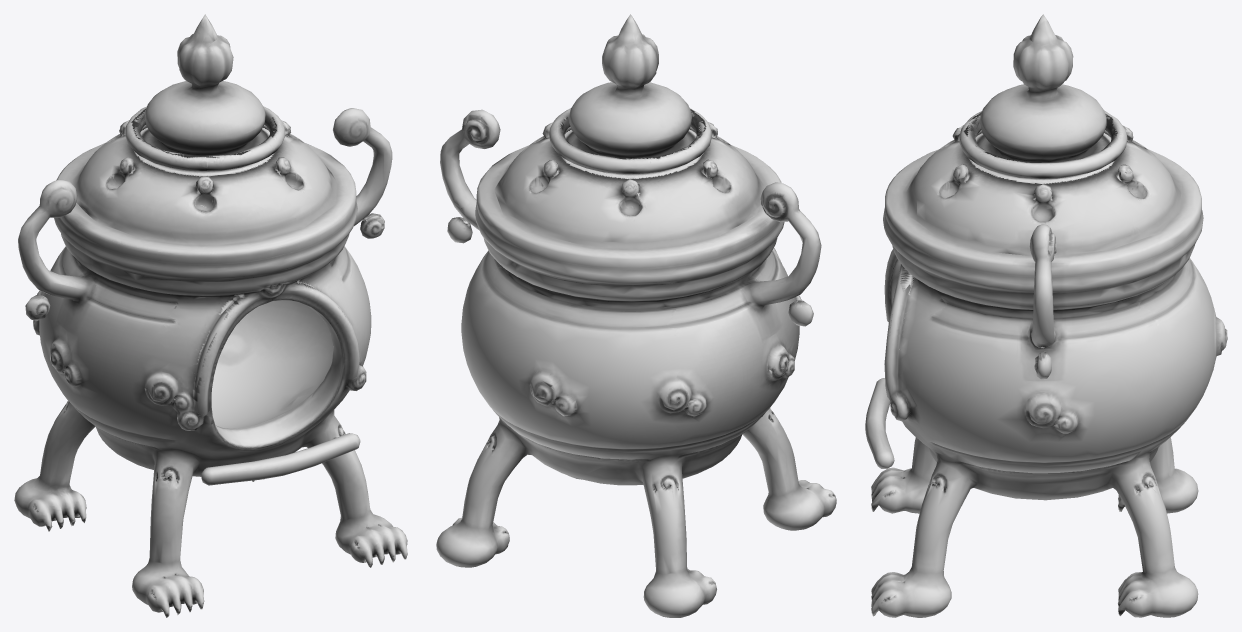
File: lohoa.glb
3 views of the same model, side by side, from view 1: azimuth 30°, elevation 25°; view 2: azimuth 150°, elevation 25°; view 3: azimuth 270°, elevation 25° (orthographic). The views are drawn at different scales.
Parts seen in each view (by area): view 1: lohoa; view 2: lohoa; view 3: lohoa.
Part boxes in pixels (box(x1,y1,x2,y2)): lohoa: box(14, 14, 407, 617); lohoa: box(436, 14, 836, 617); lohoa: box(865, 14, 1227, 617).
Bounding box in the file's own units: 1.42 × 1.9 × 1.14.
1 material, 1 textured.
